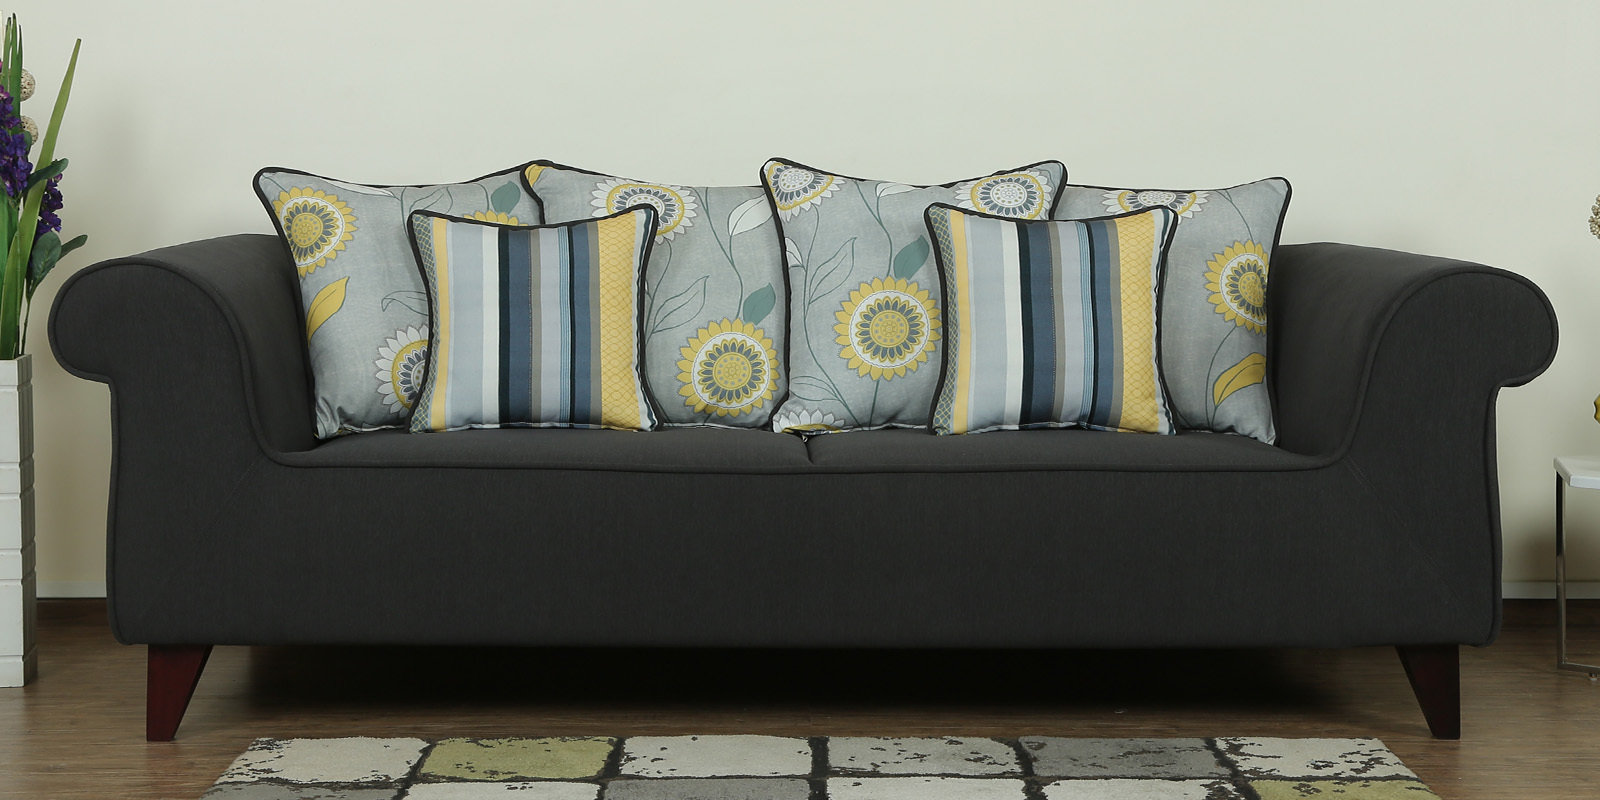Cielo Three Seater Sofa in Charcoal Grey Colour by CasaCraft: (55, 141, 1576, 731)
